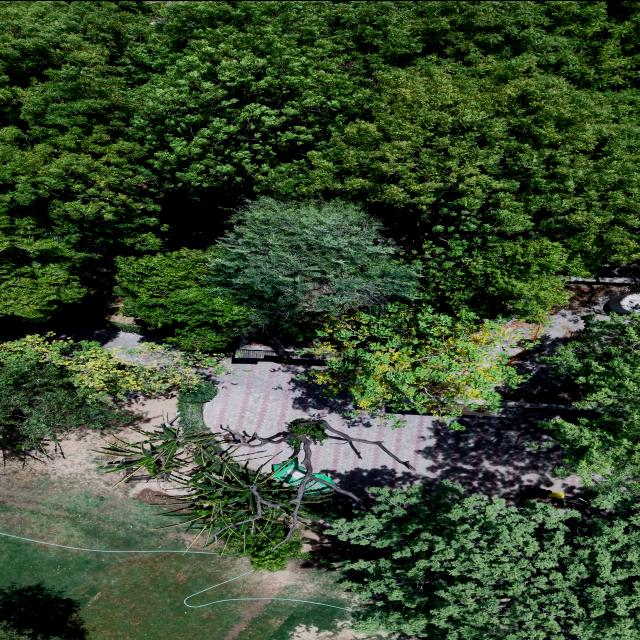DRY_AREA: (204, 285, 624, 501), (204, 286, 619, 502), (204, 361, 580, 501), (204, 362, 576, 500), (0, 536, 360, 639), (0, 536, 348, 639)
VEGETATION_TREE: (0, 1, 639, 415), (1, 1, 639, 319), (2, 1, 639, 319), (326, 318, 639, 639), (0, 332, 411, 570), (114, 198, 519, 414), (0, 332, 357, 570), (1, 2, 163, 320), (327, 481, 639, 639), (100, 412, 412, 570), (115, 198, 420, 348), (102, 412, 309, 570), (102, 412, 308, 569), (205, 198, 420, 323), (0, 332, 224, 448), (308, 301, 524, 415), (541, 317, 639, 506), (0, 332, 223, 397), (114, 246, 255, 348), (418, 232, 571, 321), (0, 354, 130, 448), (0, 213, 92, 321), (220, 513, 310, 570), (0, 621, 58, 639), (179, 380, 217, 402), (0, 621, 30, 639)
